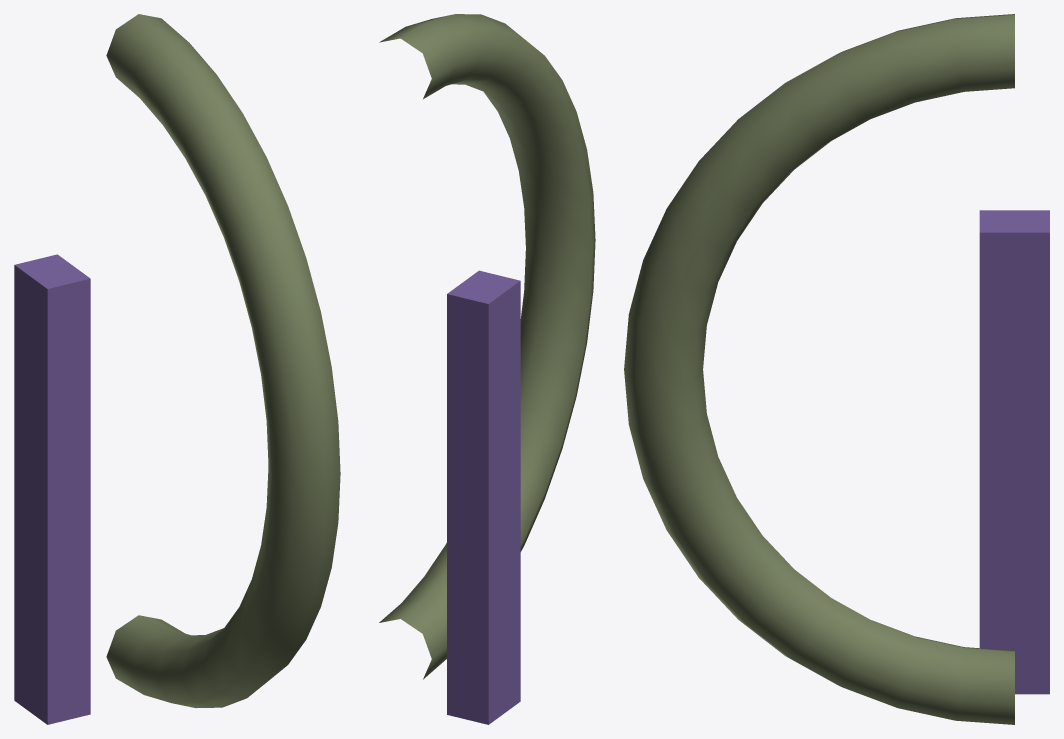
File: wpn_r_01.glb
3 views of the same model, side by side, from view 1: azimuth 30°, elevation 25°; view 2: azimuth 150°, elevation 25°; view 3: azimuth 270°, elevation 25° (orthographic). The views are drawn at different scales.
Parts seen in each view (by area): view 1: bow_limb, bow_stock; view 2: bow_limb, bow_stock; view 3: bow_limb, bow_stock.
Boxes of the visible parts, x1,y1,x2,y2 form: bow_limb: (106, 14, 340, 708); bow_stock: (14, 254, 90, 724); bow_limb: (379, 14, 595, 679); bow_stock: (447, 270, 520, 724); bow_limb: (624, 14, 1014, 724); bow_stock: (979, 210, 1049, 694).
Bounding box in the file's own units: 0.195 × 0.895 × 0.485.
